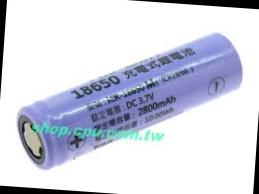battery: (0, 13, 253, 188)
